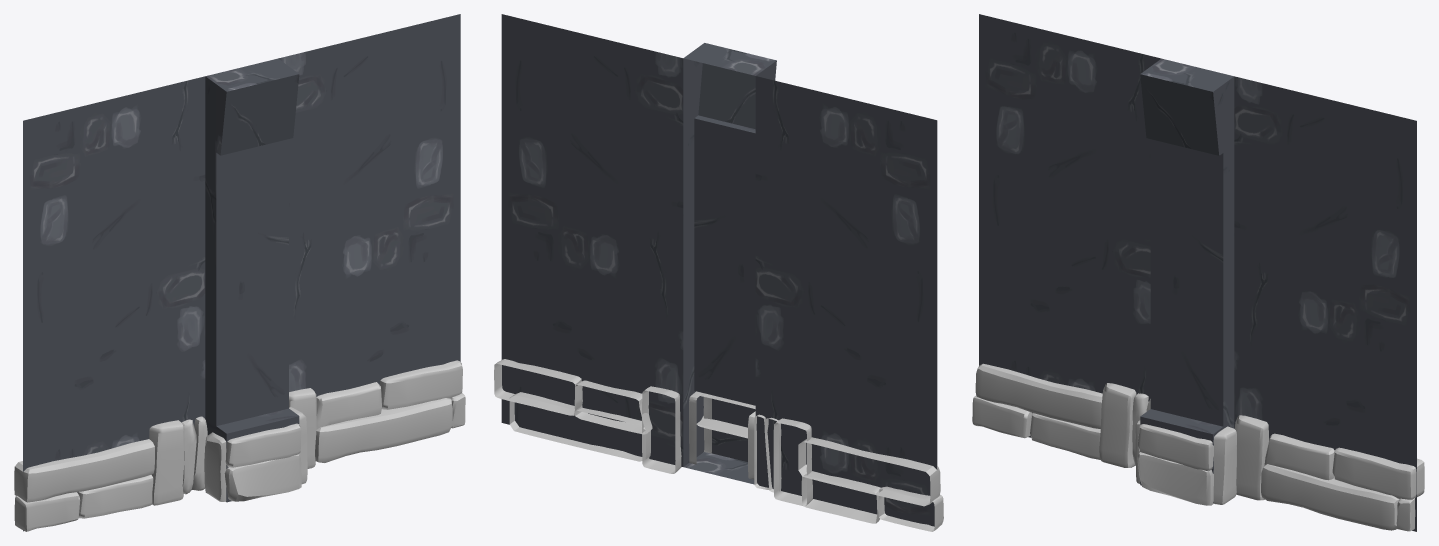
The model's file is wall with pillar.fbx.
3 renders of one model, left to right at view 1: azimuth 30°, elevation 25°; view 2: azimuth 150°, elevation 25°; view 3: azimuth 330°, elevation 25°, orthographic.
Visible parts, largest first — view 1: Wall_with_pillar; view 2: Wall_with_pillar; view 3: Wall_with_pillar.
Part boxes in pixels (x1,y1,x2,y2): Wall_with_pillar: [14, 14, 465, 531]; Wall_with_pillar: [494, 14, 943, 531]; Wall_with_pillar: [972, 14, 1424, 531].
Size of the model in its own units: 14.09 by 12.67 by 1.93.
